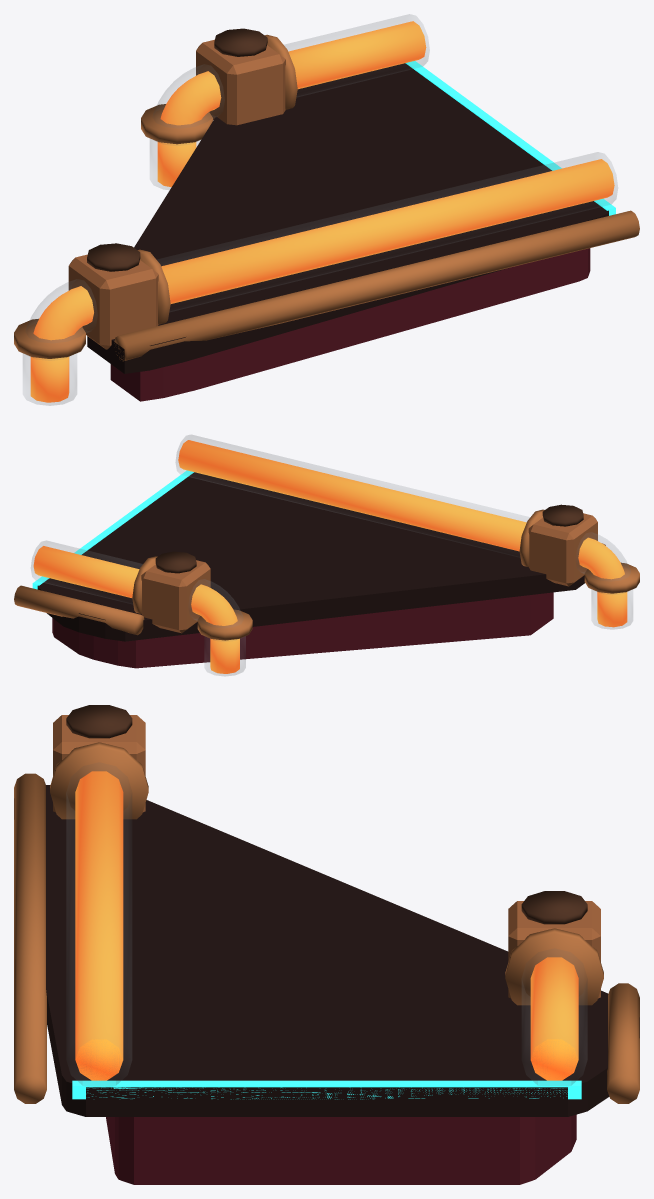
File: Pier_Angled_40.glb
The picture shows the model from 3 angles, top to bottom: view 1: azimuth 30°, elevation 25°; view 2: azimuth 150°, elevation 25°; view 3: azimuth 270°, elevation 25°; orthographic projection. The views are drawn at different scales.
Visible parts, largest first — view 1: CP_Pier_Angled_40; view 2: CP_Pier_Angled_40; view 3: CP_Pier_Angled_40.
Boxes of the visible parts, box(x1,y1,x2,y2) form: CP_Pier_Angled_40: box(14, 14, 639, 405); CP_Pier_Angled_40: box(14, 435, 639, 675); CP_Pier_Angled_40: box(14, 705, 639, 1184).
Bounding box in the file's own units: 5.46 × 1.31 × 4.18.
